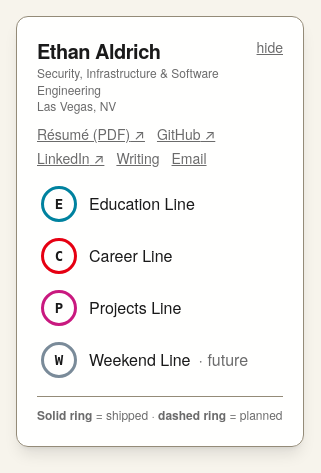
Test: StationIndex › collapses and expands
Click the button "hide".
click(270, 47)  # box [256,37,283,57]
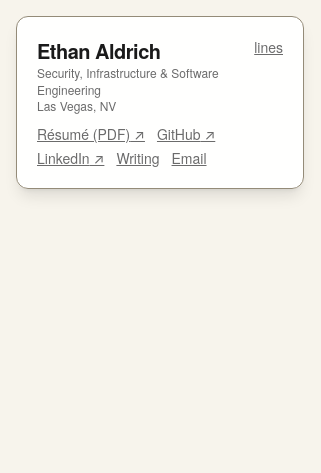
Now the button "Education Line" is gone
Click the button "lines".
click(269, 47)  # box [254,37,283,57]
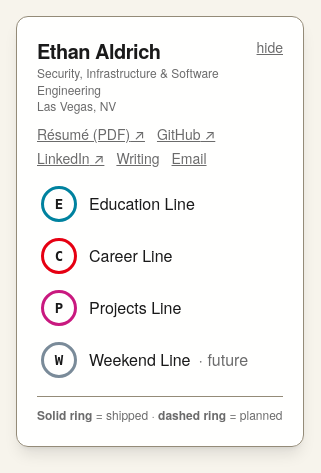
Now the text "Education Line" is shown, box [89,192,195,216]
